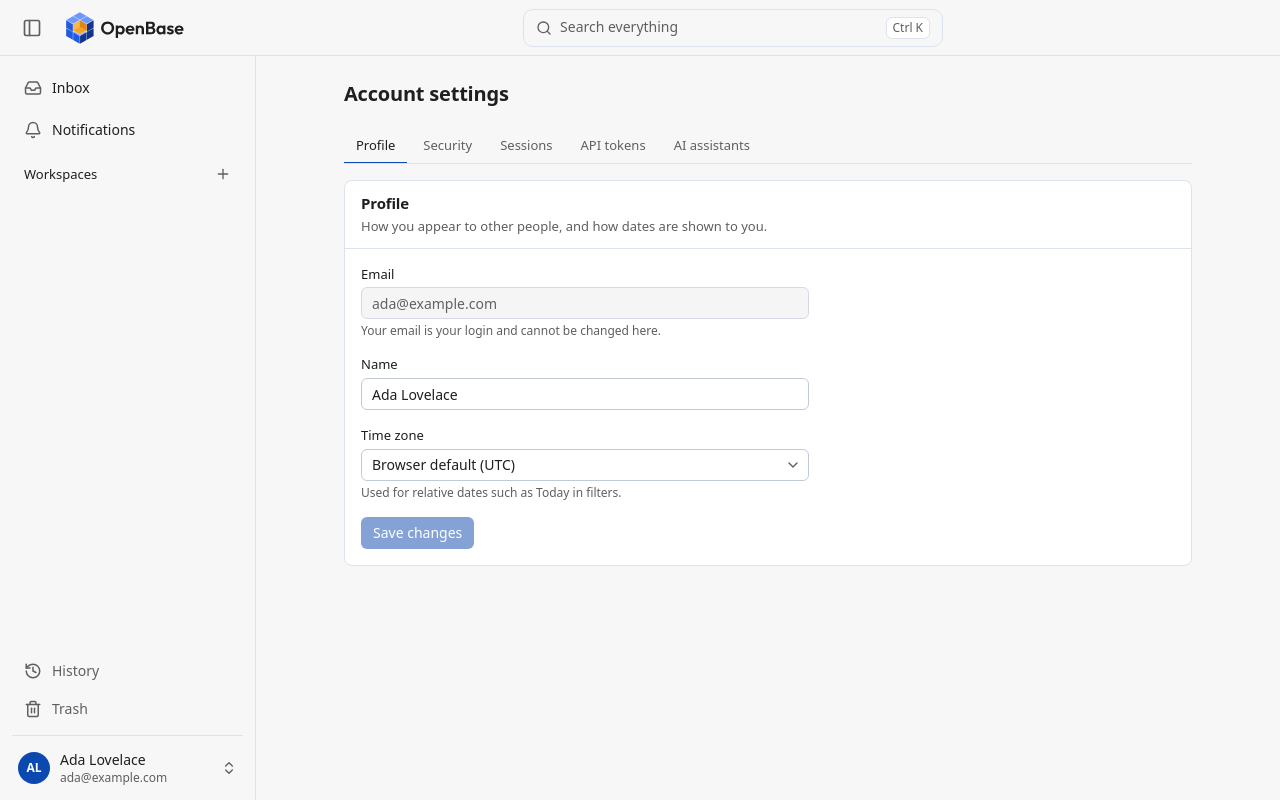
account › saves the profile with a time zone chosen from the browser's list
Check: the field labelled "Email" is disabled, box [361,287,809,319]
Replace the text in the field labelled "Name" with "Ada L." at (585, 394), box [361,378,809,410]
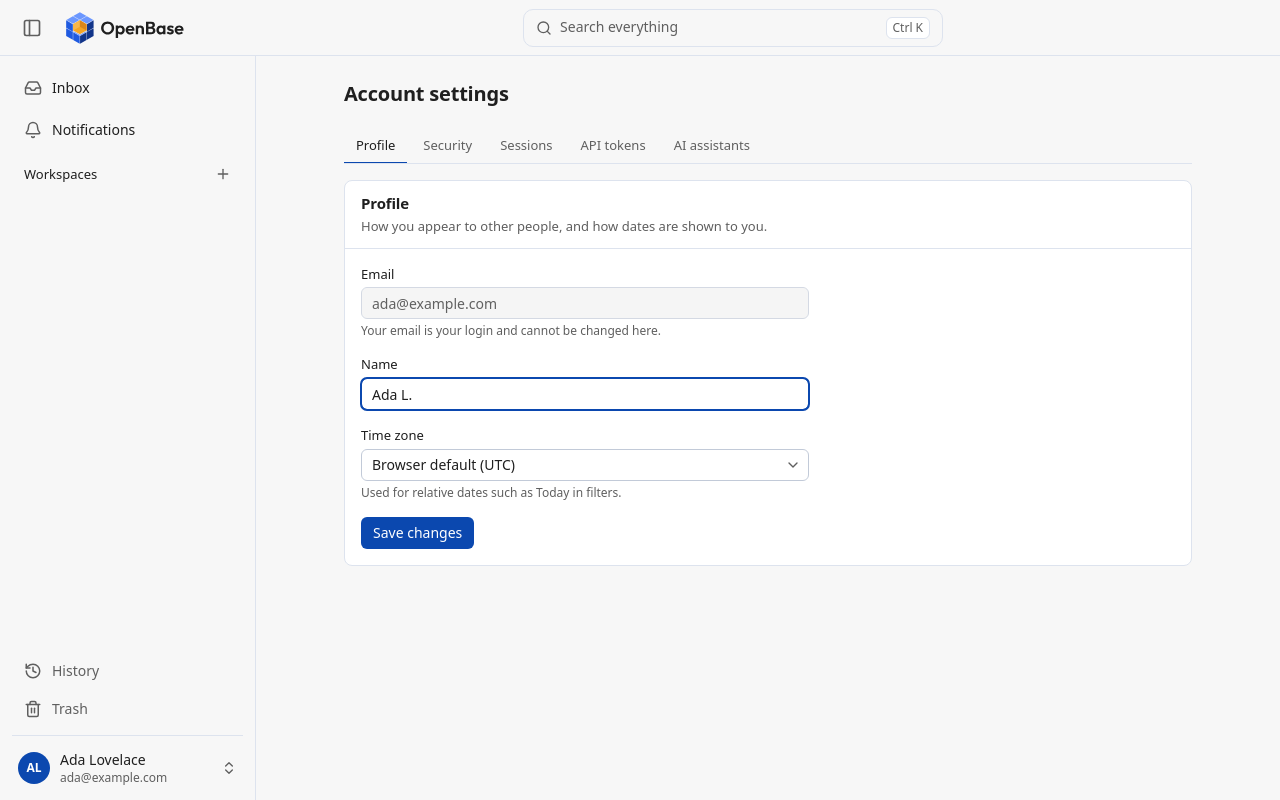
Select "Europe/London" in the dropdown labelled "Time zone" at (585, 465), box [361,449,809,481]
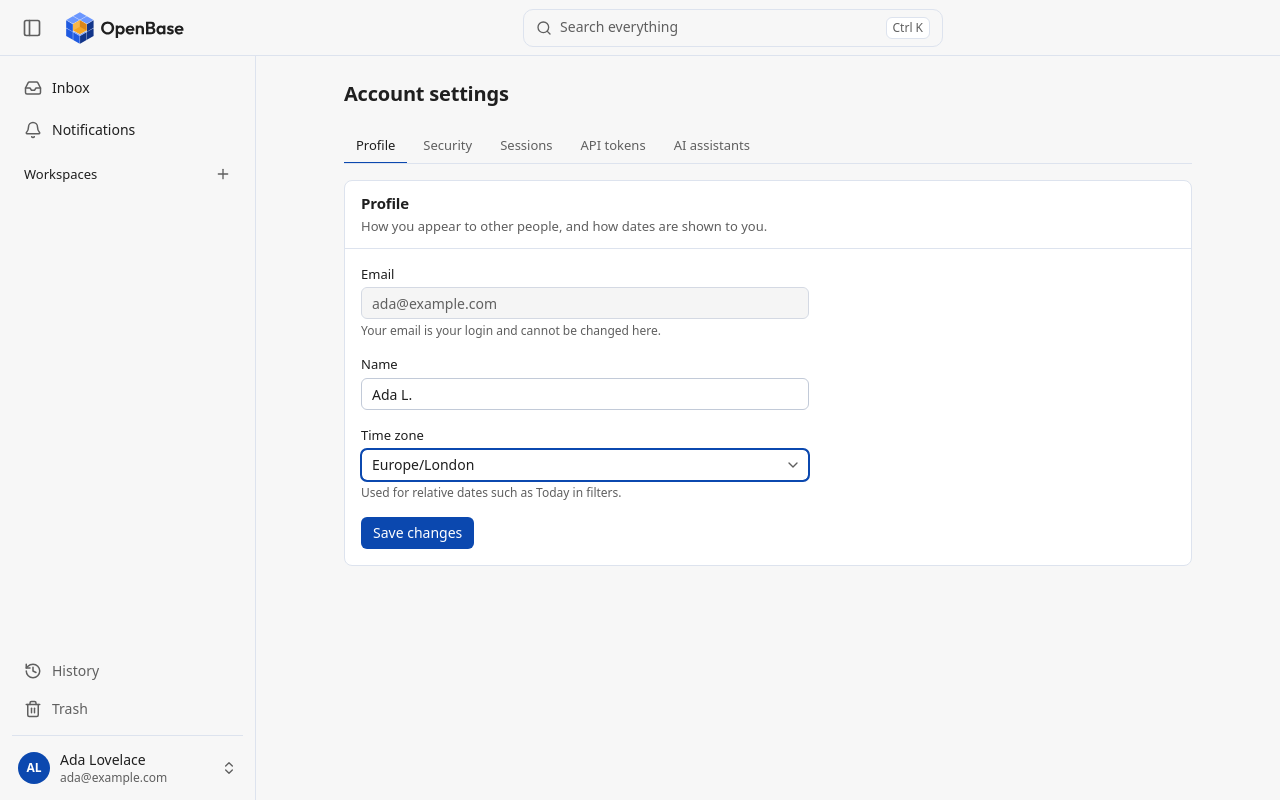
Click the button "Save changes".
click(418, 533)  # box [361,517,474,549]
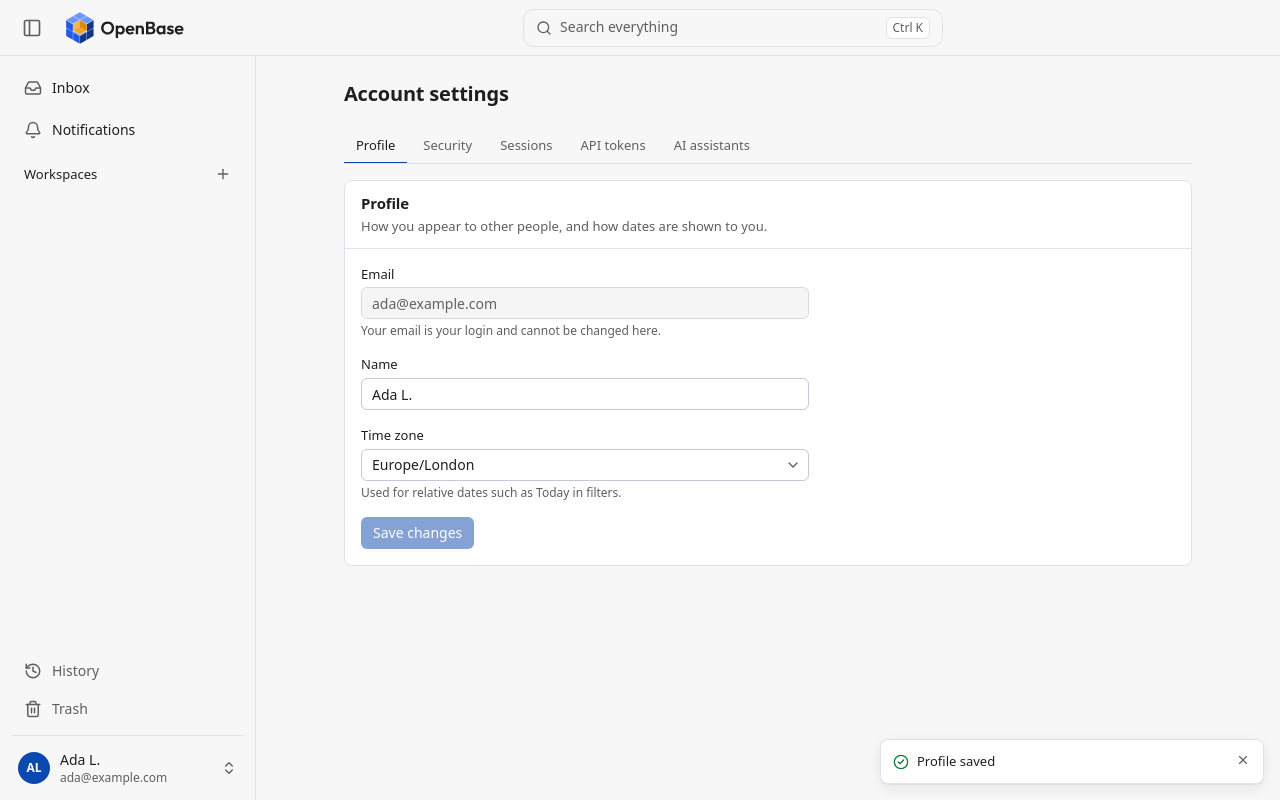
Check: the text "Profile saved" is shown, box [917,752,995,770]
